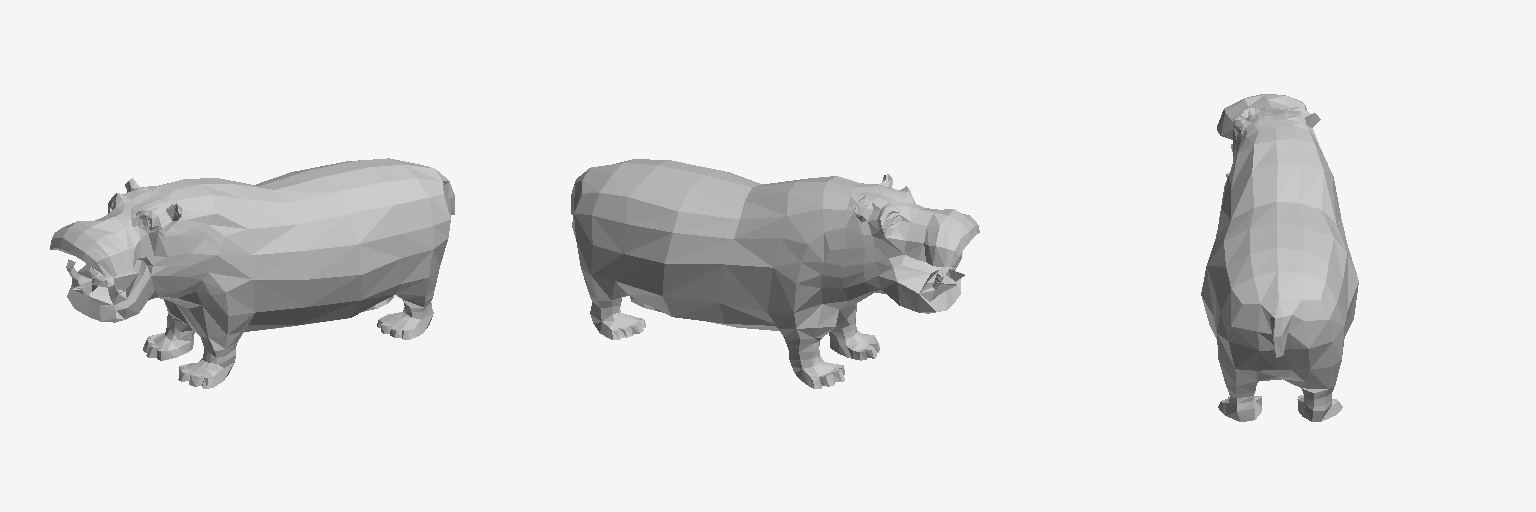
The model's file is Low Rez Hippo.obj.
The picture shows the model from 3 angles: view 1: azimuth 30°, elevation 25°; view 2: azimuth 150°, elevation 25°; view 3: azimuth 270°, elevation 25°; orthographic projection.
Visible parts, largest first — view 1: polySurface2; view 2: polySurface2; view 3: polySurface2.
Boxes of the visible parts, <box> form: polySurface2: <box>50,158,454,388</box>; polySurface2: <box>571,159,979,388</box>; polySurface2: <box>1201,94,1358,421</box>.
Size of the model in its own units: 119 by 52.78 by 41.4.